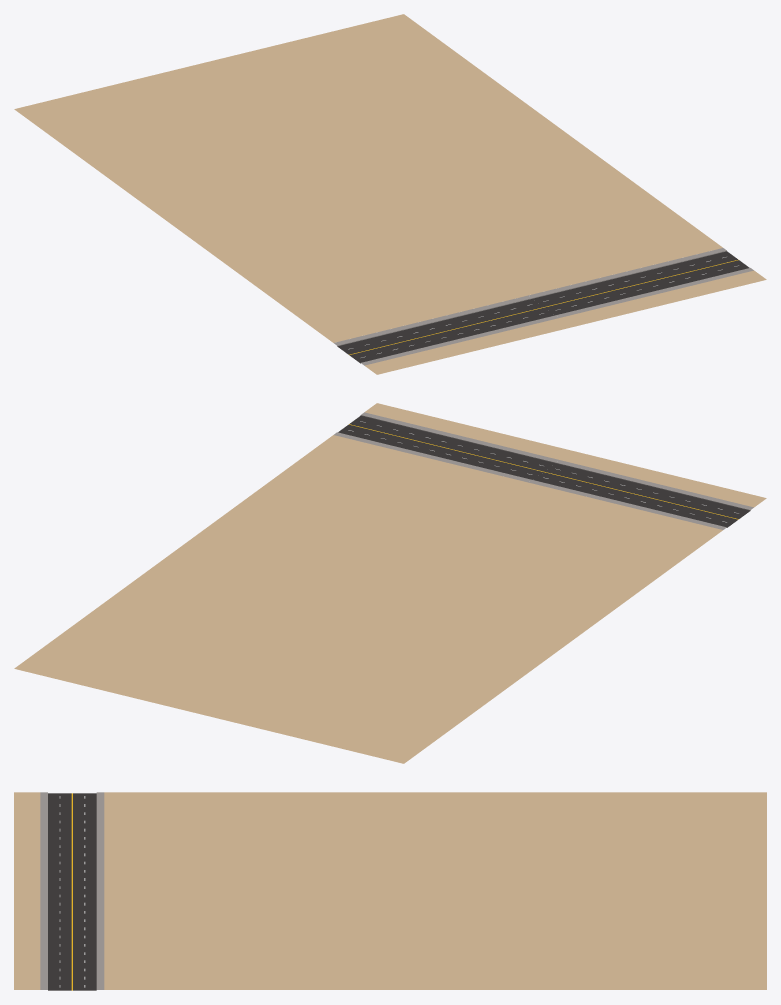
File: ground.glb
3 views of the same model, one above another, from view 1: azimuth 30°, elevation 25°; view 2: azimuth 150°, elevation 25°; view 3: azimuth 270°, elevation 25° (orthographic). The views are drawn at different scales.
Parts seen in each view (by area): view 1: tile-mainroad-straight-nb.006; view 2: tile-mainroad-straight-nb.006; view 3: tile-mainroad-straight-nb.006.
Part boxes in pixels (<box>): tile-mainroad-straight-nb.006: <box>14,14,766,374</box>; tile-mainroad-straight-nb.006: <box>14,403,766,763</box>; tile-mainroad-straight-nb.006: <box>14,792,766,990</box>.
Bounding box in the file's own units: 342 × 0.5699 × 551.
